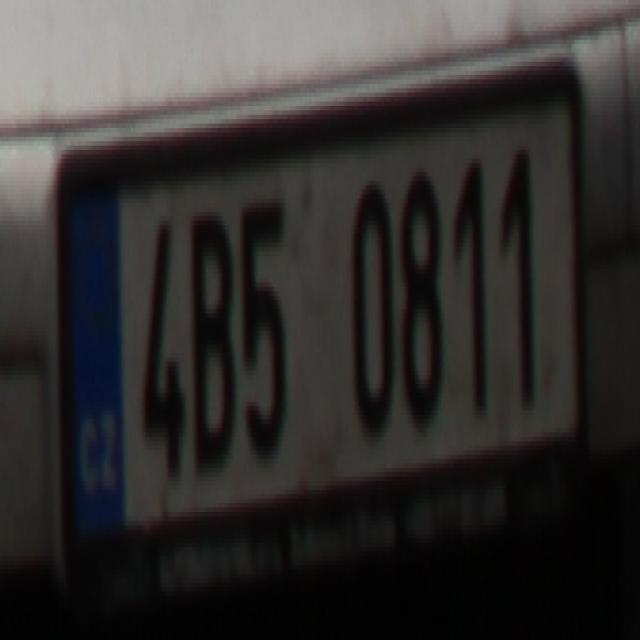0: (347, 168, 393, 437)
1: (495, 124, 540, 402), (453, 150, 488, 419)
4: (137, 208, 186, 477)
5: (239, 190, 286, 463)
8: (395, 159, 446, 428)
B: (187, 198, 236, 468)
